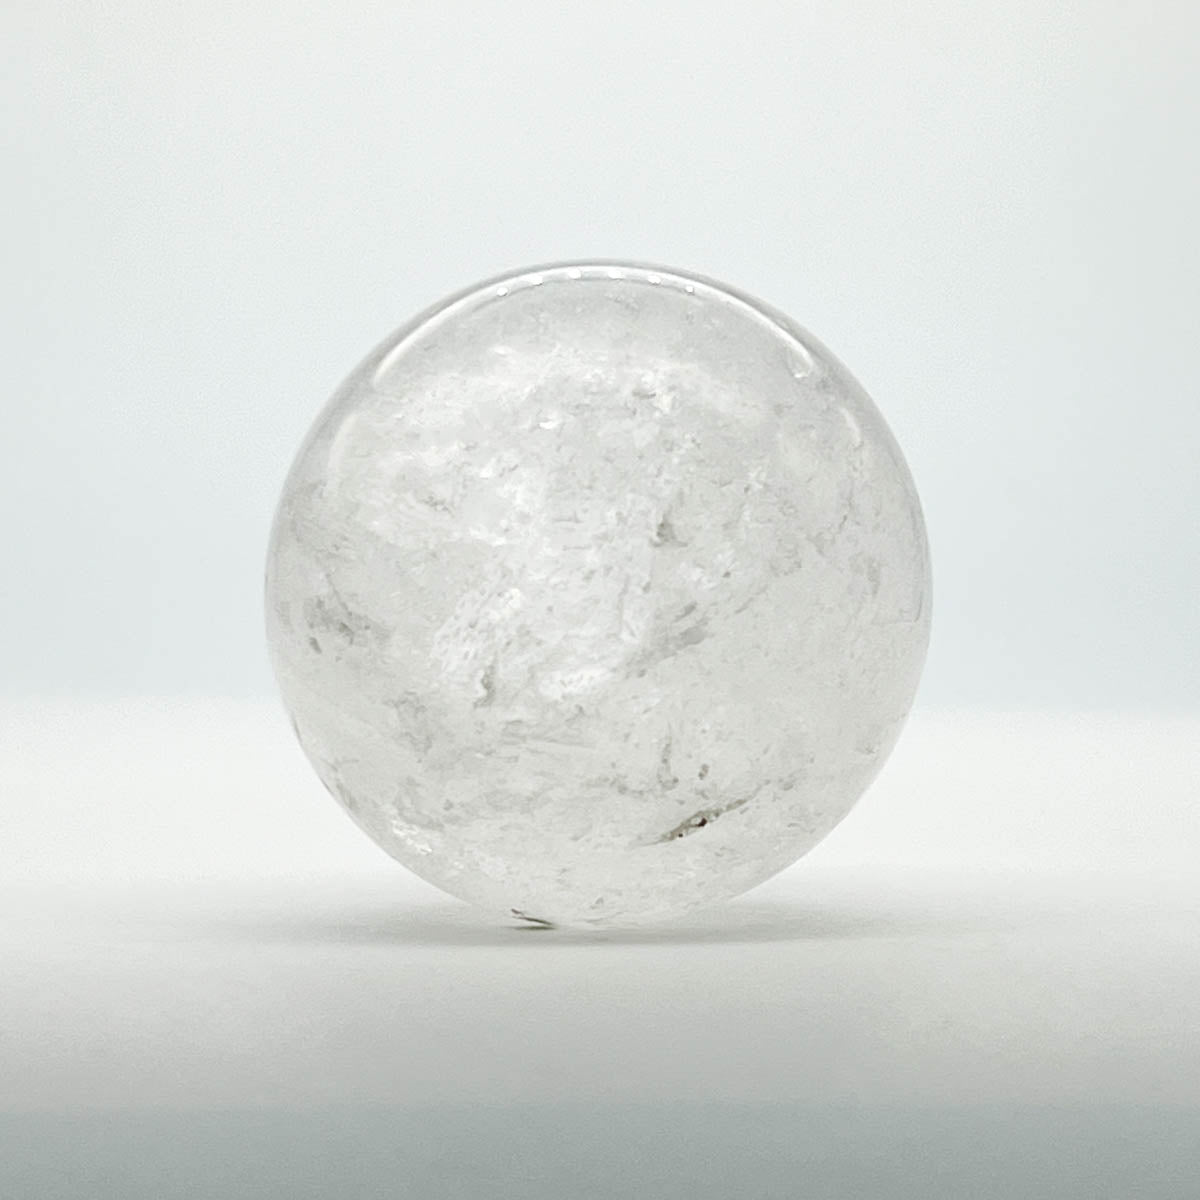Clear_Quartz: (254, 246, 936, 936)
